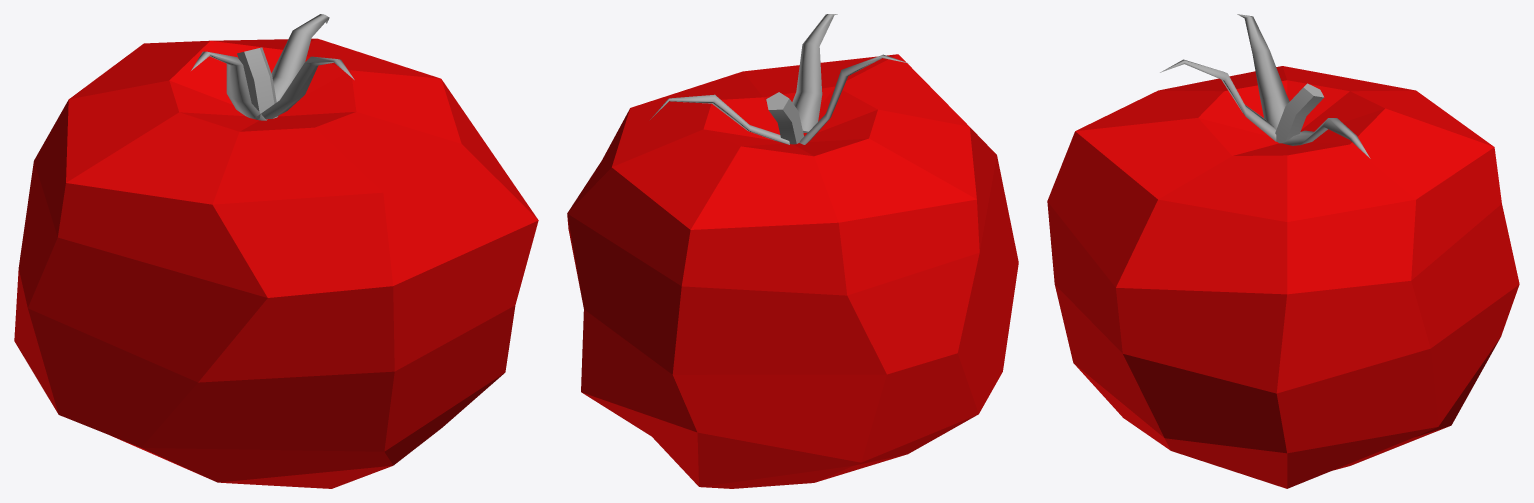
File: Tomato.fbx
3 views of the same model, side by side, from view 1: azimuth 30°, elevation 25°; view 2: azimuth 150°, elevation 25°; view 3: azimuth 270°, elevation 25° (orthographic). The views are drawn at different scales.
Visible parts, largest first — view 1: pSphere2; view 2: pSphere2; view 3: pSphere2.
Part boxes in pixels (<box>): pSphere2: <box>14,14,538,488</box>; pSphere2: <box>567,14,1018,488</box>; pSphere2: <box>1047,14,1519,488</box>.
Bounding box in the file's own units: 2.05 × 1.91 × 2.03.
